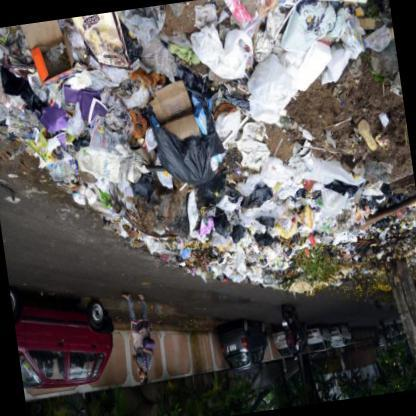Garbage: (19, 4, 192, 147), (110, 65, 248, 238), (228, 0, 403, 127), (226, 159, 396, 276)
